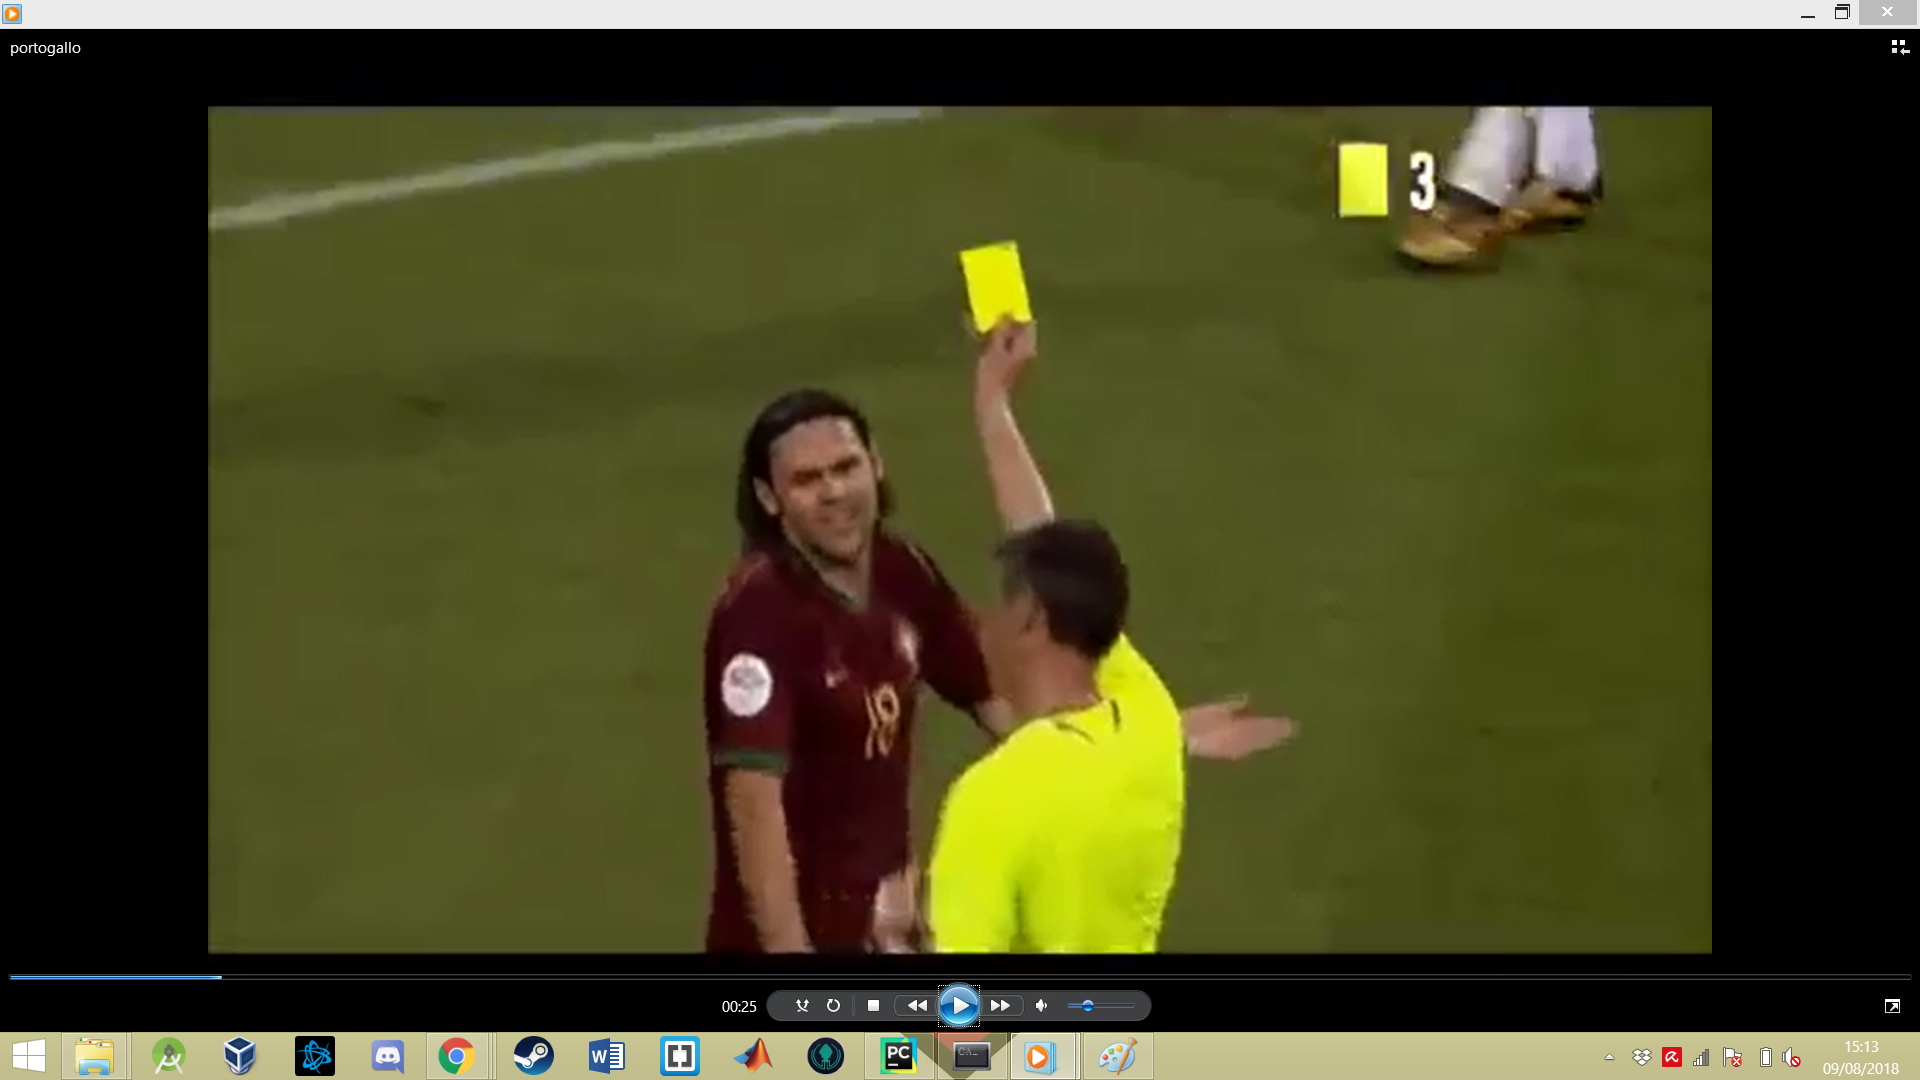yellow_card: (939, 237, 1043, 400)
